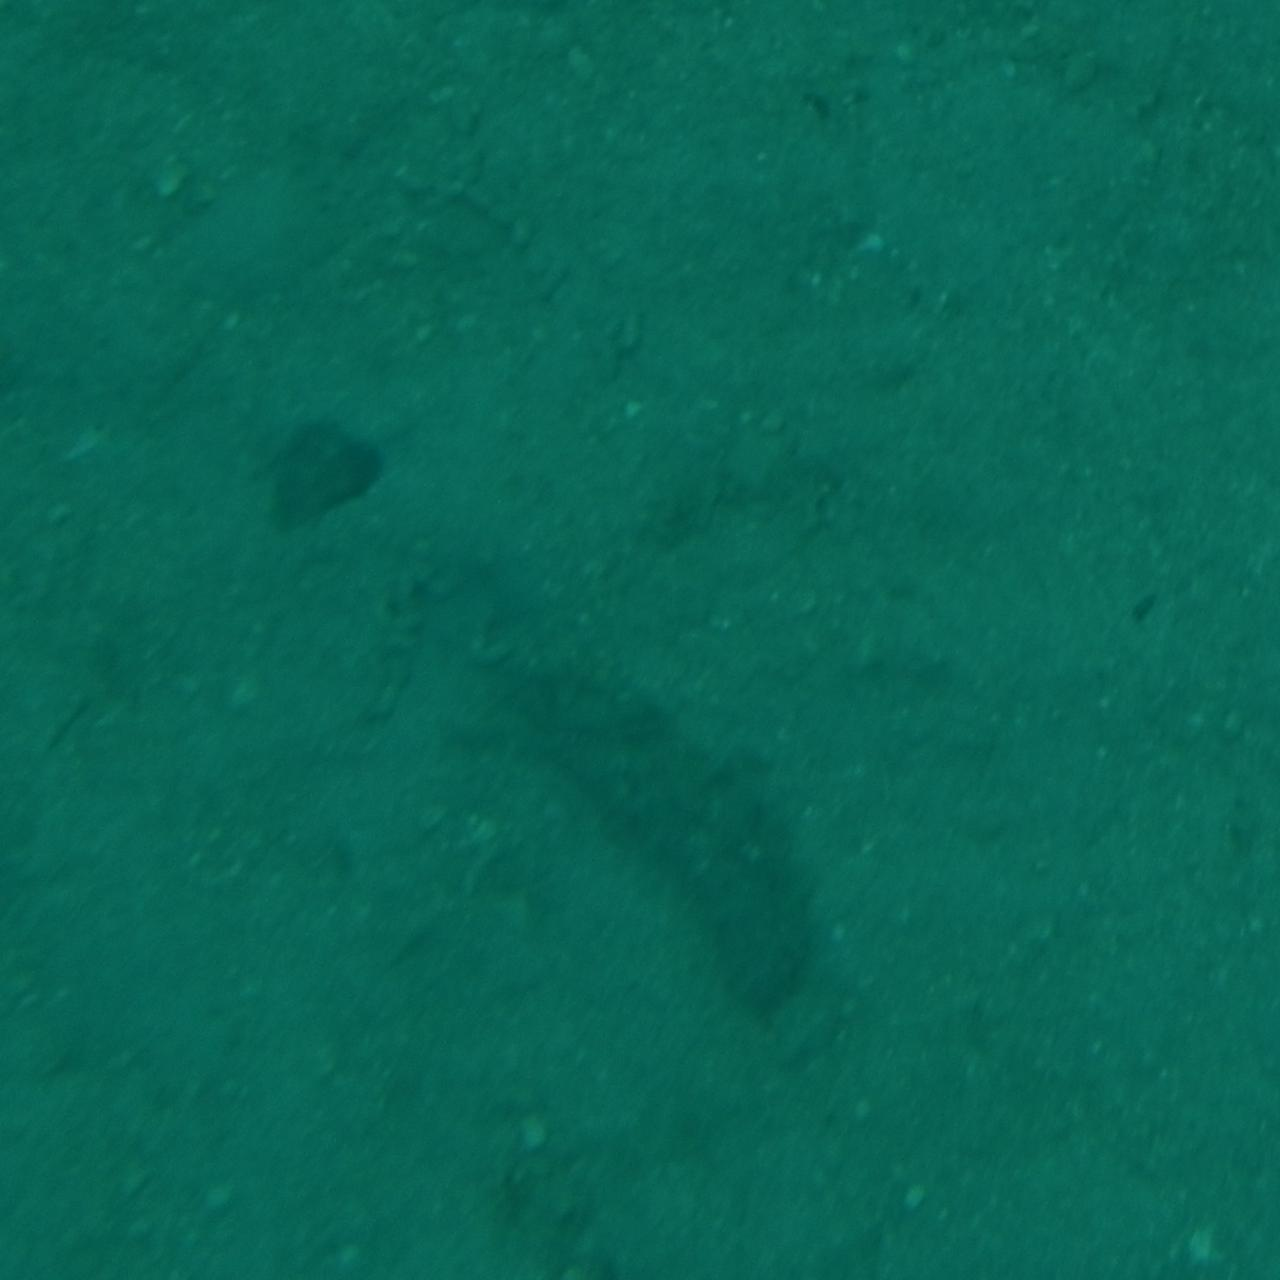Holothuria tubulosa: (446, 567, 834, 1032)
